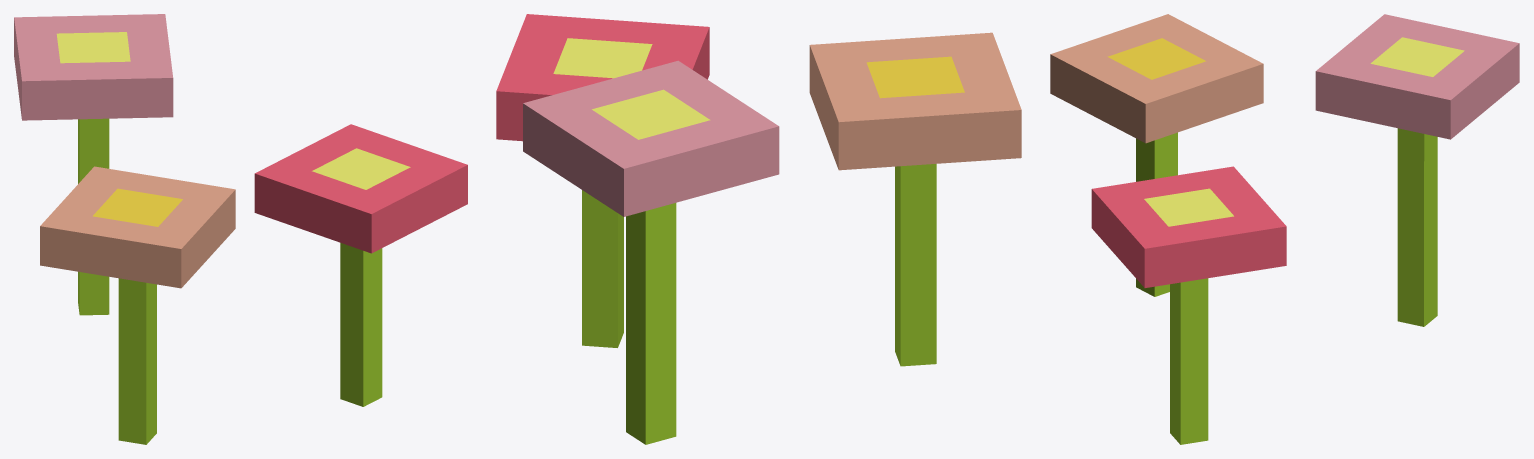
Rendered from Flower_01_G.fbx.
The picture shows the model from 3 angles, left to right: view 1: azimuth 30°, elevation 25°; view 2: azimuth 150°, elevation 25°; view 3: azimuth 270°, elevation 25°; orthographic projection. The views are drawn at different scales.
Visible parts, largest first — view 1: Flower_01_G; view 2: Flower_01_G; view 3: Flower_01_G.
Part boxes in pixels (x1,y1,x2,y2): Flower_01_G: [14, 14, 467, 444]; Flower_01_G: [496, 14, 1021, 444]; Flower_01_G: [1050, 14, 1519, 444].
Size of the model in its own units: 89.47 by 62.57 by 87.28.
